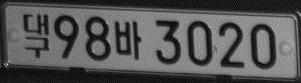0: (249, 23, 276, 70), (186, 20, 212, 66)
2: (219, 21, 245, 68)
3: (154, 19, 181, 64)
8: (84, 16, 111, 61)
9: (52, 14, 79, 58)
대구_V: (22, 13, 50, 58)
바: (114, 20, 142, 60)
